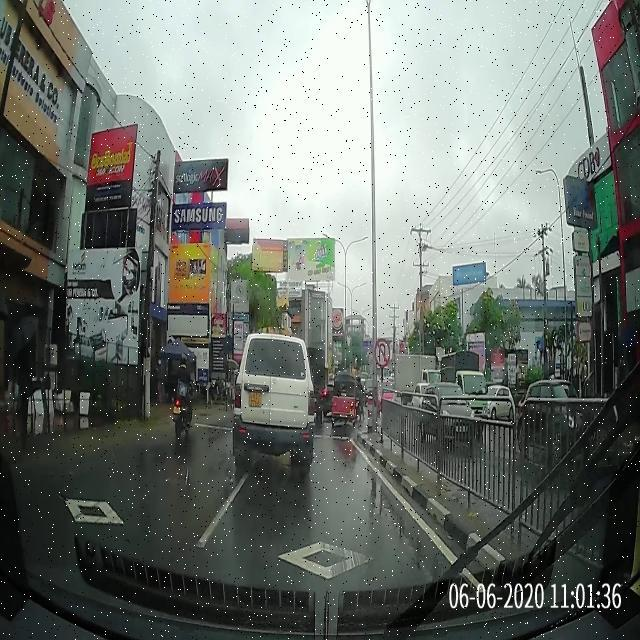diamond: (180, 493, 489, 590)
